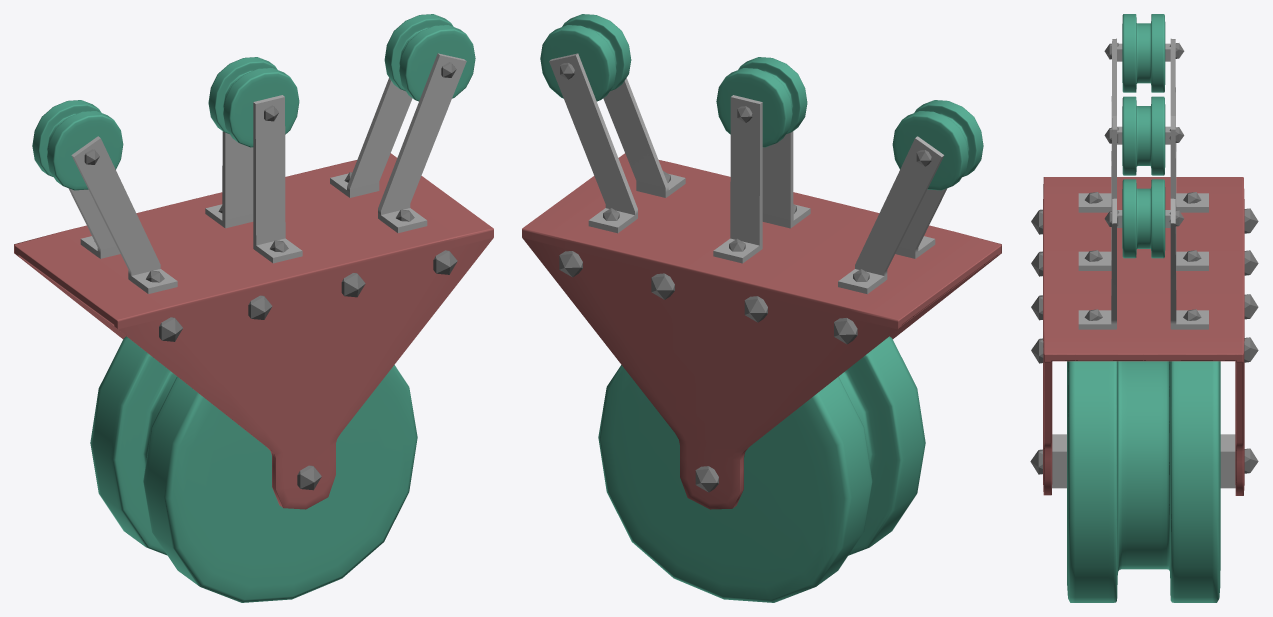
File: Pulley.fbx
3 views of the same model, side by side, from view 1: azimuth 30°, elevation 25°; view 2: azimuth 150°, elevation 25°; view 3: azimuth 270°, elevation 25° (orthographic). The views are drawn at different scales.
Visible parts, largest first — view 1: Structure, Large_Wheel, Wheel_3, Wheel_2, Wheel_1; view 2: Structure, Large_Wheel, Wheel_3, Wheel_2, Wheel_1; view 3: Structure, Large_Wheel, Wheel_1, Wheel_2, Wheel_3.
Boxes of the visible parts, bbox=[...] form: Structure: bbox=[14, 53, 493, 509]; Large_Wheel: bbox=[90, 336, 417, 602]; Wheel_3: bbox=[32, 100, 123, 190]; Wheel_2: bbox=[208, 57, 299, 147]; Wheel_1: bbox=[384, 14, 475, 101]; Structure: bbox=[522, 53, 1001, 509]; Large_Wheel: bbox=[598, 336, 925, 602]; Wheel_3: bbox=[892, 100, 983, 190]; Wheel_2: bbox=[716, 57, 807, 147]; Wheel_1: bbox=[540, 14, 631, 101]; Structure: bbox=[1030, 38, 1258, 495]; Large_Wheel: bbox=[1067, 361, 1220, 602]; Wheel_1: bbox=[1122, 179, 1165, 258]; Wheel_2: bbox=[1122, 96, 1165, 175]; Wheel_3: bbox=[1122, 14, 1165, 92].
Bounding box in the file's own units: 14.38 × 16.47 × 7.
